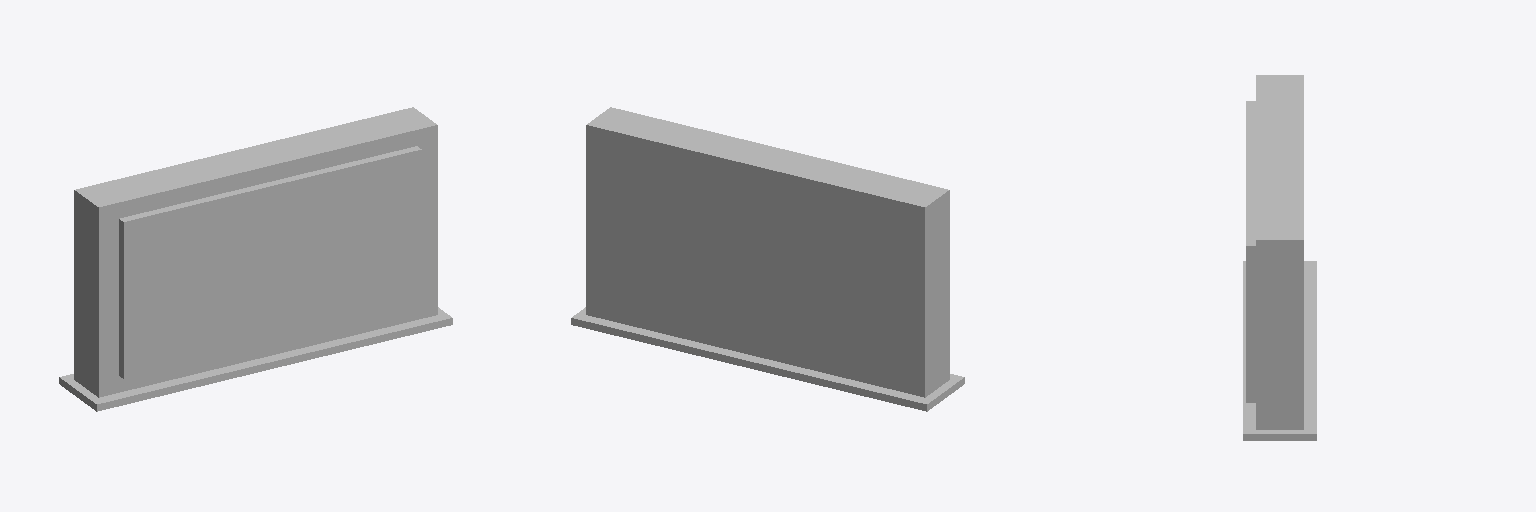
The model's file is advert.obj.
3 views of the same model, side by side, from view 1: azimuth 30°, elevation 25°; view 2: azimuth 150°, elevation 25°; view 3: azimuth 270°, elevation 25° (orthographic).
Visible parts, largest first — view 1: Cube; view 2: Cube; view 3: Cube.
Part boxes in pixels (left/top/right/bottom): Cube: left=59, top=107, right=452, bottom=411; Cube: left=571, top=107, right=964, bottom=411; Cube: left=1243, top=75, right=1316, bottom=440.
Size of the model in its own units: 6.95 by 3.68 by 1.27.